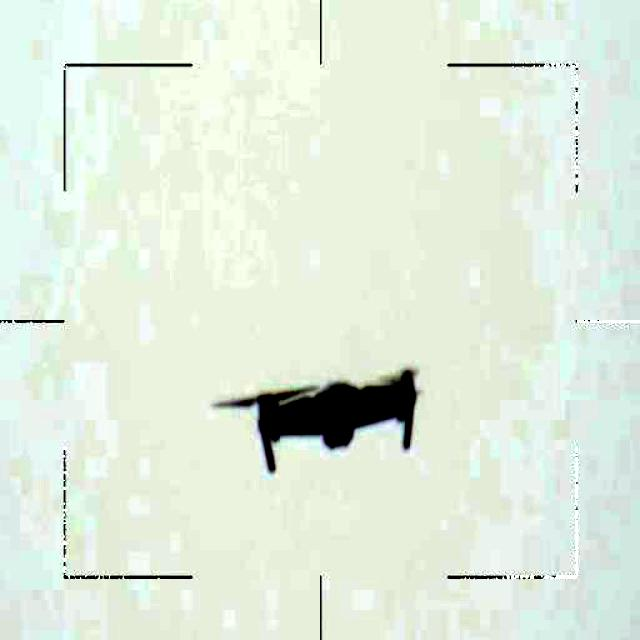bird: (222, 359, 459, 479)
